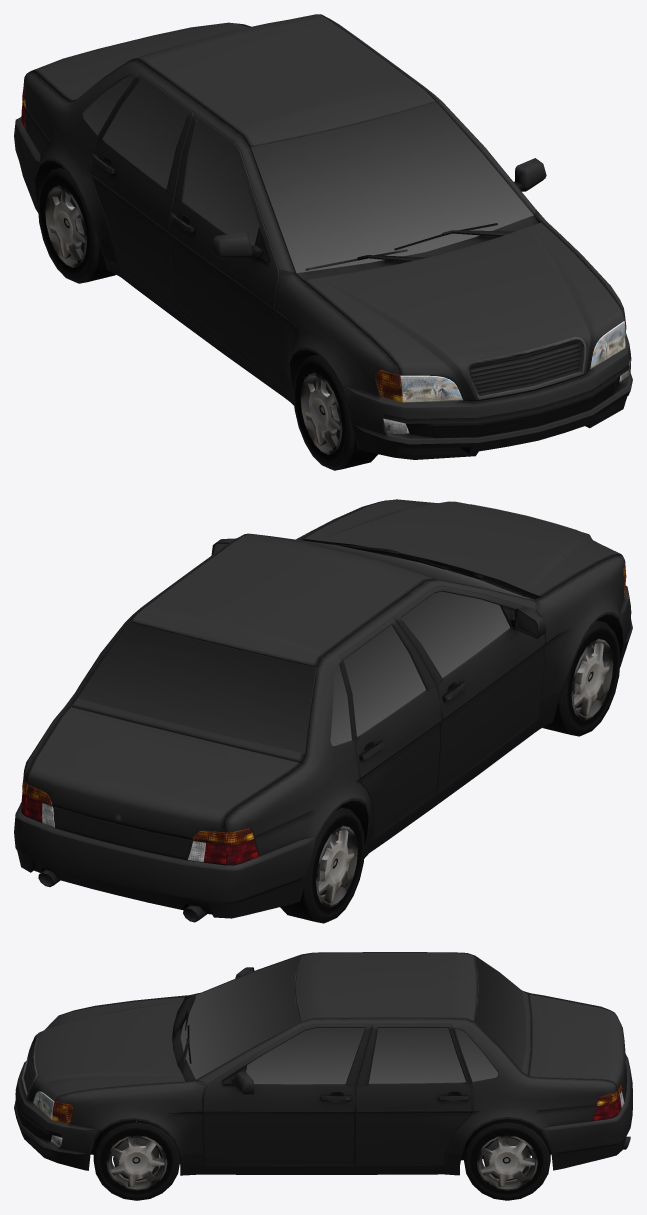
File: SM_Car_03.fbx
The picture shows the model from 3 angles, top to bottom: view 1: azimuth 30°, elevation 25°; view 2: azimuth 150°, elevation 25°; view 3: azimuth 270°, elevation 25°; orthographic projection. The views are drawn at different scales.
Visible parts, largest first — view 1: SM_Car_03_LOD0; view 2: SM_Car_03_LOD0; view 3: SM_Car_03_LOD0.
Boxes of the visible parts, box(x1,y1,x2,y2) form: SM_Car_03_LOD0: box(14, 14, 632, 470); SM_Car_03_LOD0: box(14, 499, 632, 923); SM_Car_03_LOD0: box(14, 952, 632, 1200).
Size of what is drawn, in the model's own units: 2.18 by 1.51 by 4.91.
